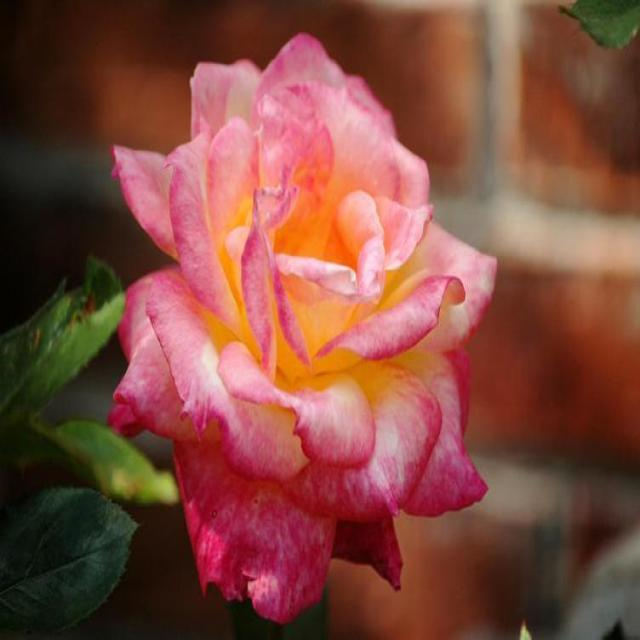rose: (100, 39, 484, 640)
